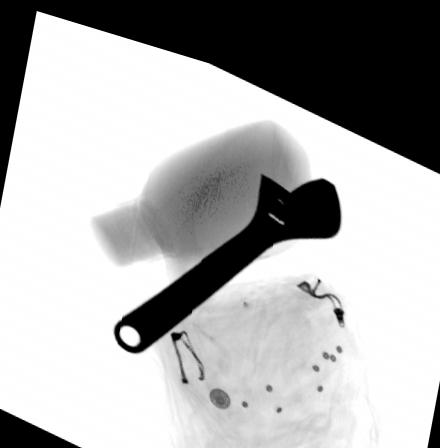Wrench: (111, 153, 343, 345)
